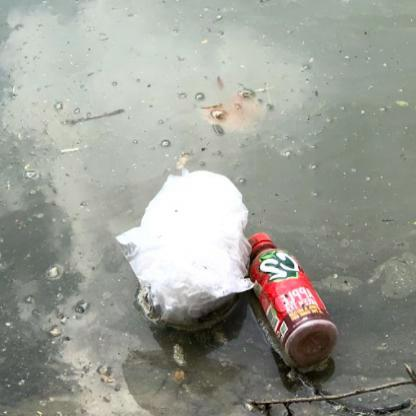Plastic: (241, 229, 342, 370)
Trash: (111, 166, 256, 334)
